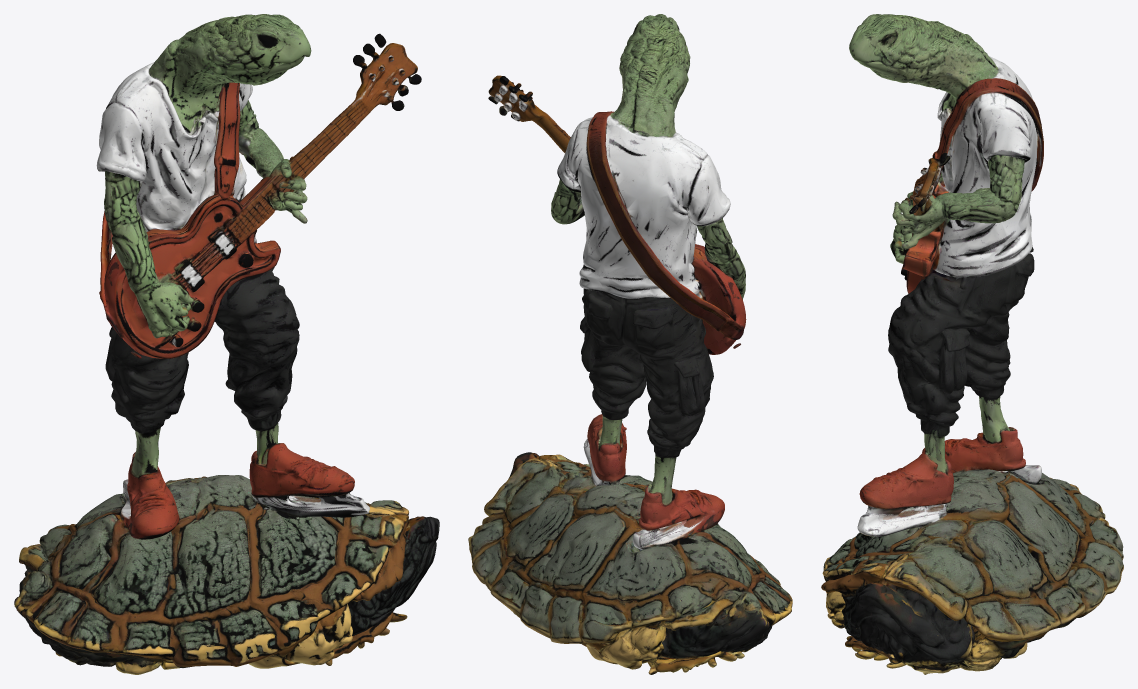
The model's file is shellbound-turtle-performance.glb.
3 renders of one model, left to right at view 1: azimuth 30°, elevation 25°; view 2: azimuth 150°, elevation 25°; view 3: azimuth 270°, elevation 25°, orthographic. The views are drawn at different scales.
Parts seen in each view (by area): view 1: mesh_node; view 2: mesh_node; view 3: mesh_node.
Boxes of the visible parts, left/top/right/bottom form: mesh_node: left=14, top=14, right=439, bottom=674; mesh_node: left=468, top=14, right=792, bottom=674; mesh_node: left=821, top=14, right=1123, bottom=674.
Bounding box in the file's own units: 1.11 × 1.9 × 0.8547.
1 material, 1 textured.
